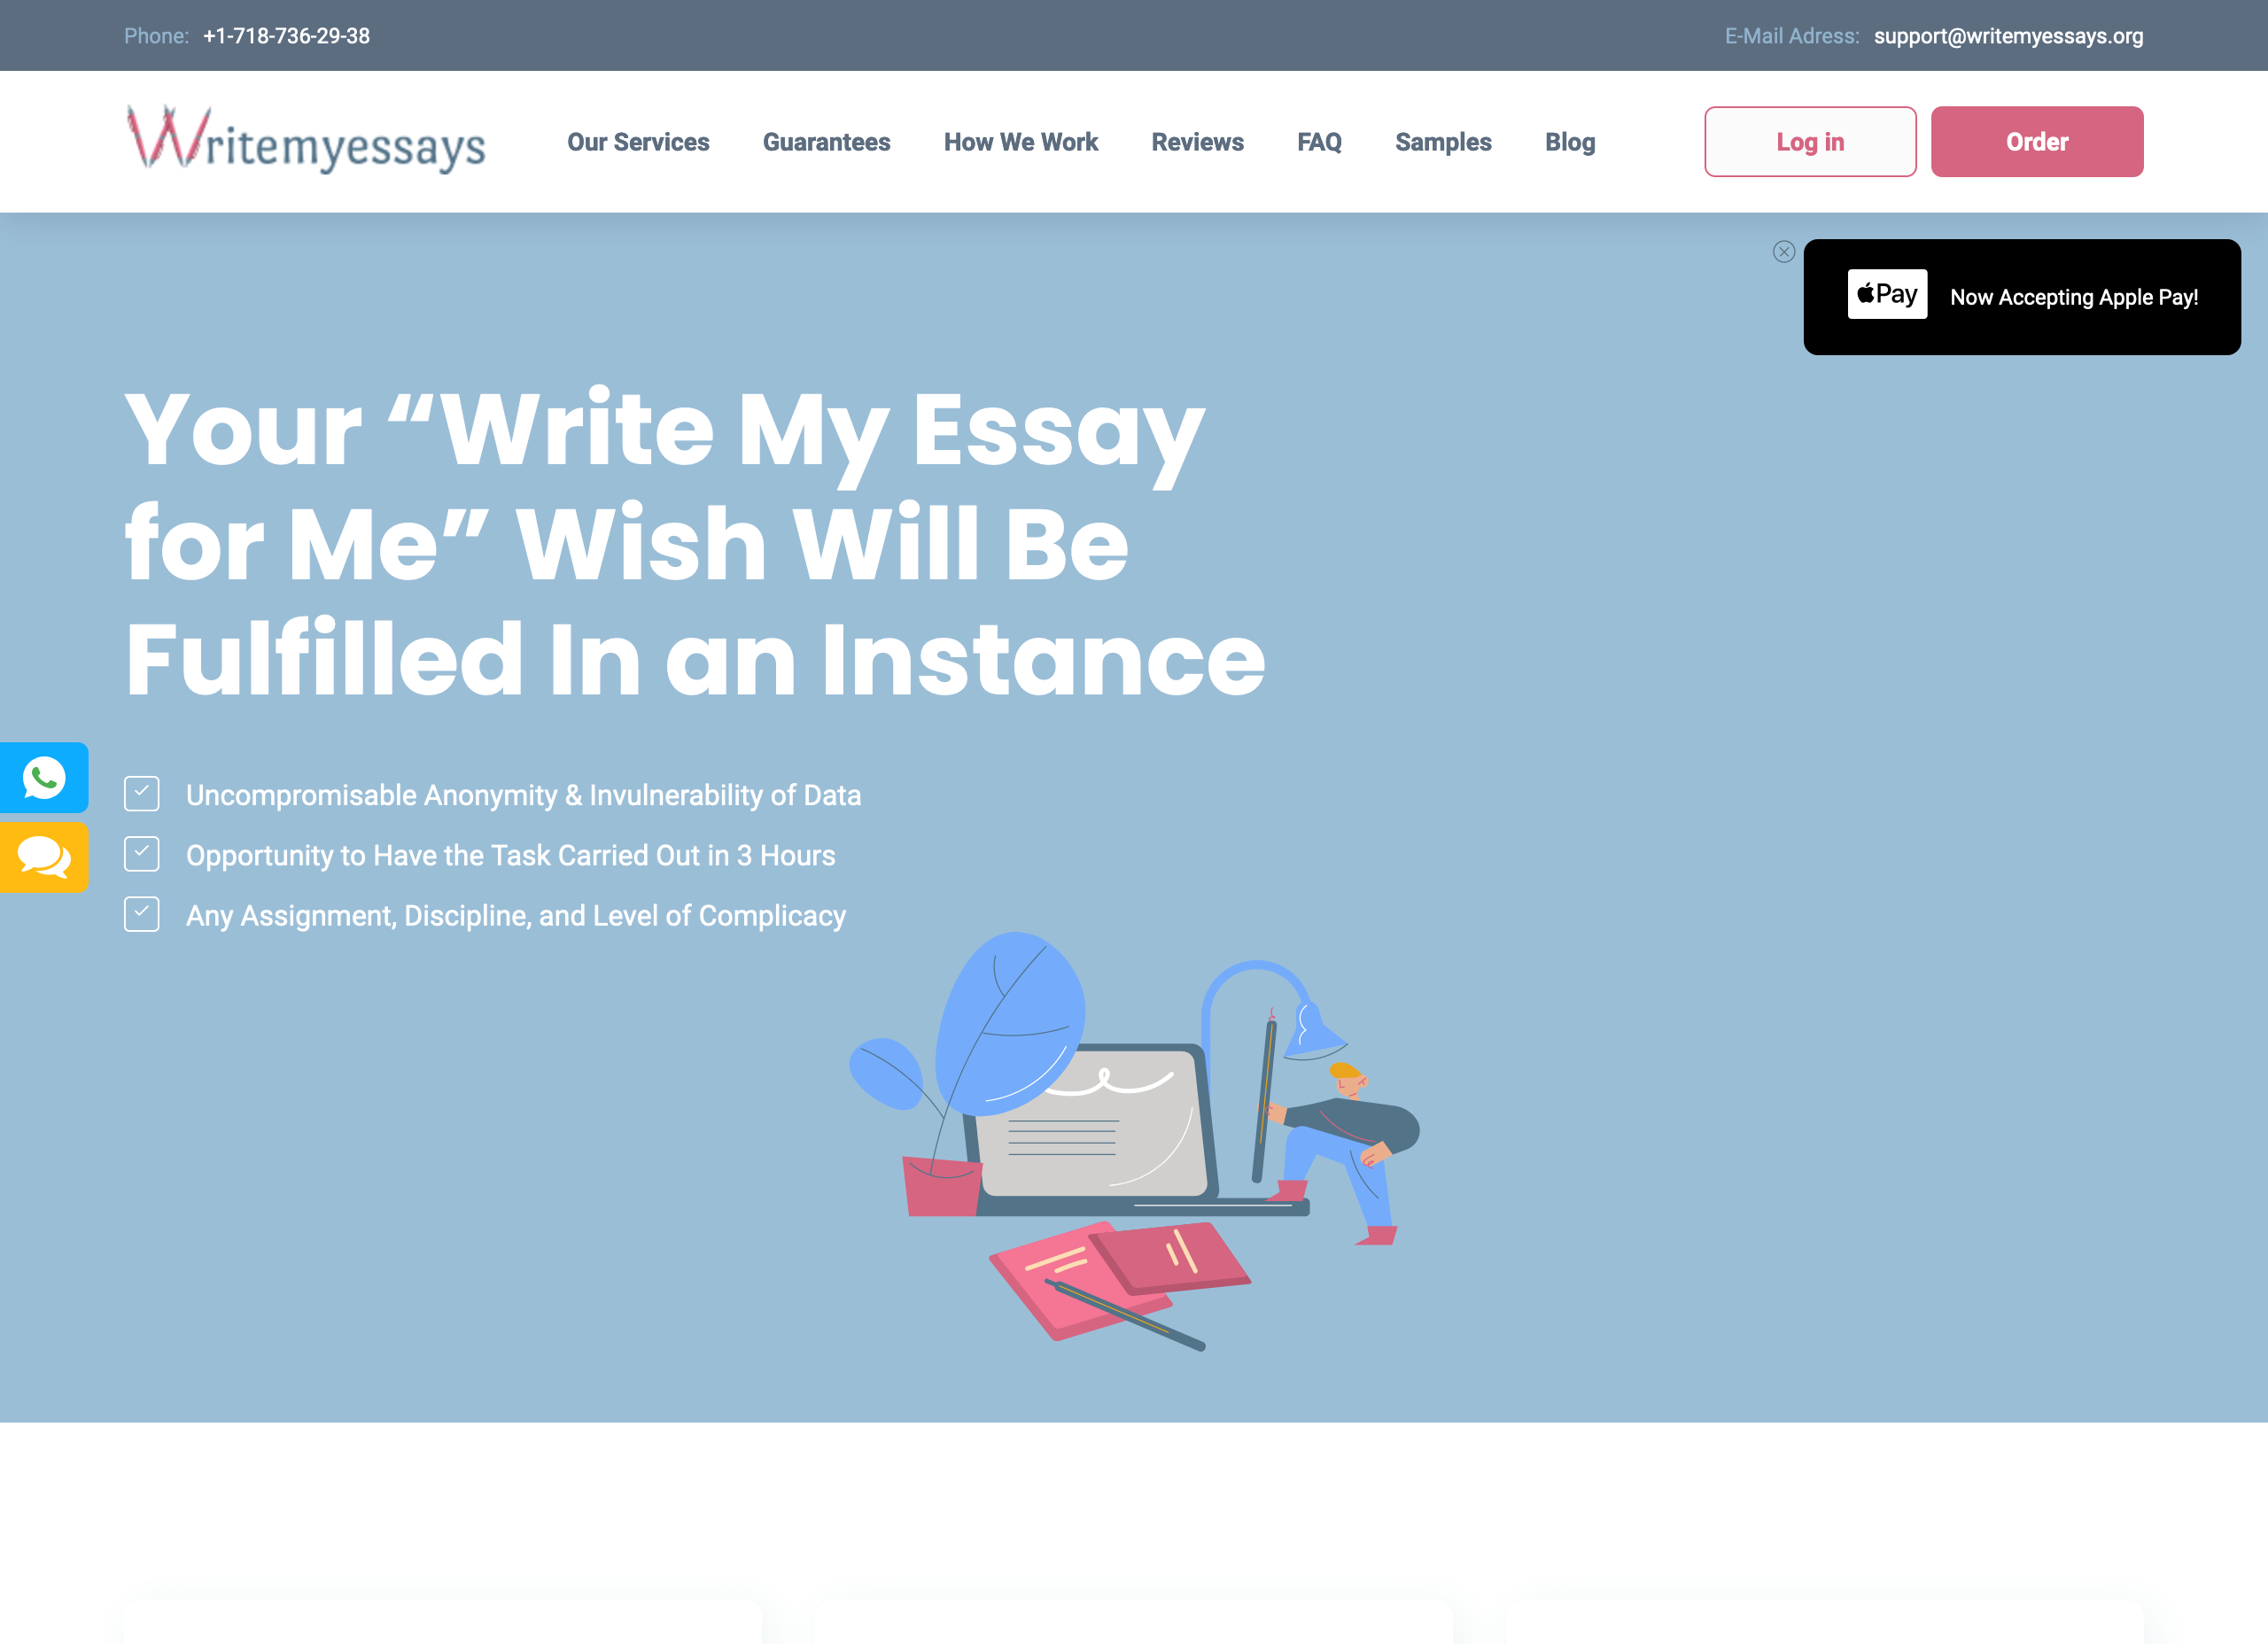Login: (1692, 93, 1921, 185)
